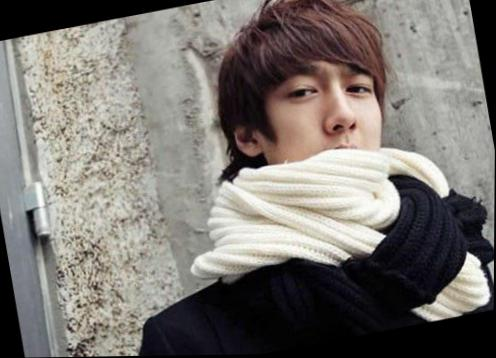WRONG: (254, 47, 402, 205)
